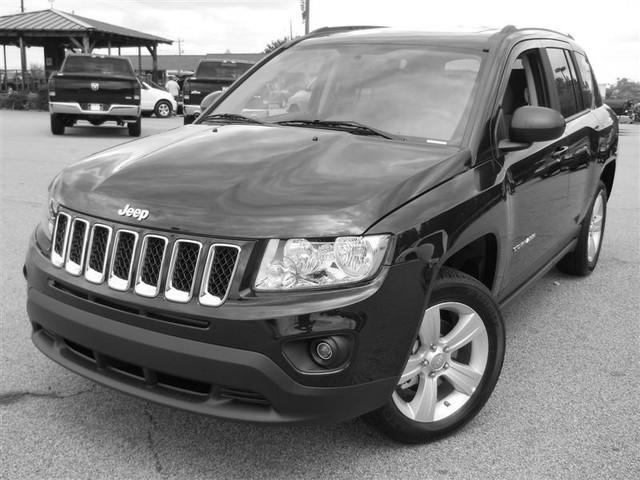car: (21, 21, 623, 445)
